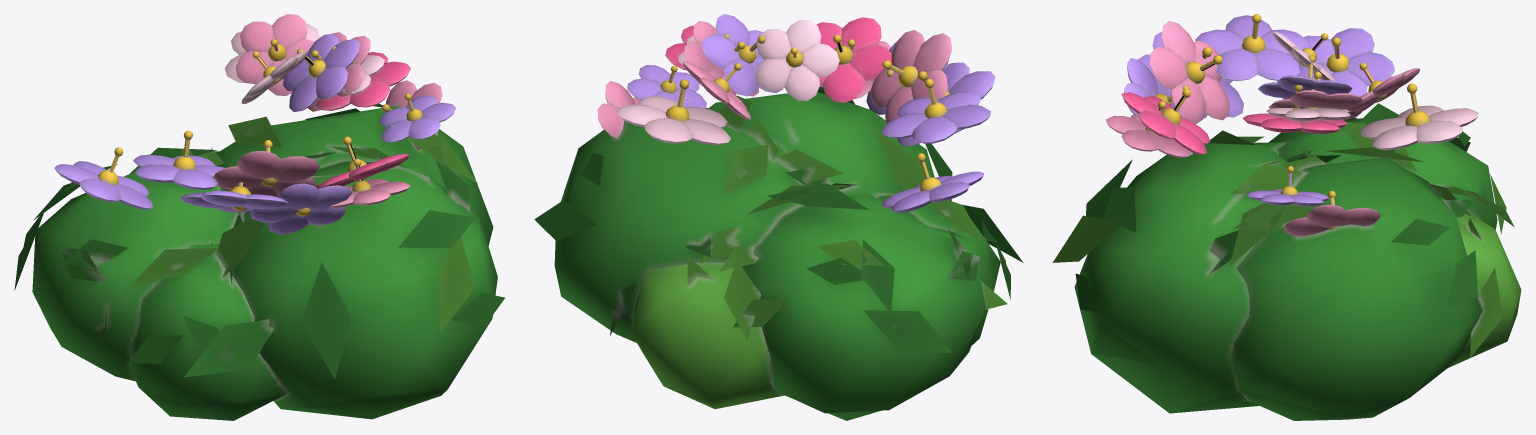
File: hs_flower_garden.glb
3 views of the same model, side by side, from view 1: azimuth 30°, elevation 25°; view 2: azimuth 150°, elevation 25°; view 3: azimuth 270°, elevation 25° (orthographic). The views are drawn at different scales.
Visible parts, largest first — view 1: hs_flower_garden; view 2: hs_flower_garden; view 3: hs_flower_garden.
Boxes of the visible parts, x1,y1,x2,y2 form: hs_flower_garden: (14,14,504,420); hs_flower_garden: (534,14,1023,420); hs_flower_garden: (1052,14,1521,420).
Size of the model in its own units: 2.85 by 2.2 by 2.7.
Materials: 7 (7 with a texture image).
